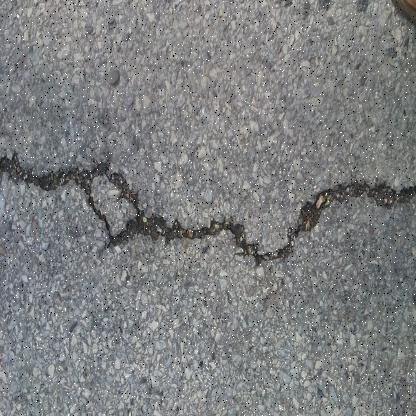Cracks: (0, 146, 415, 272)
